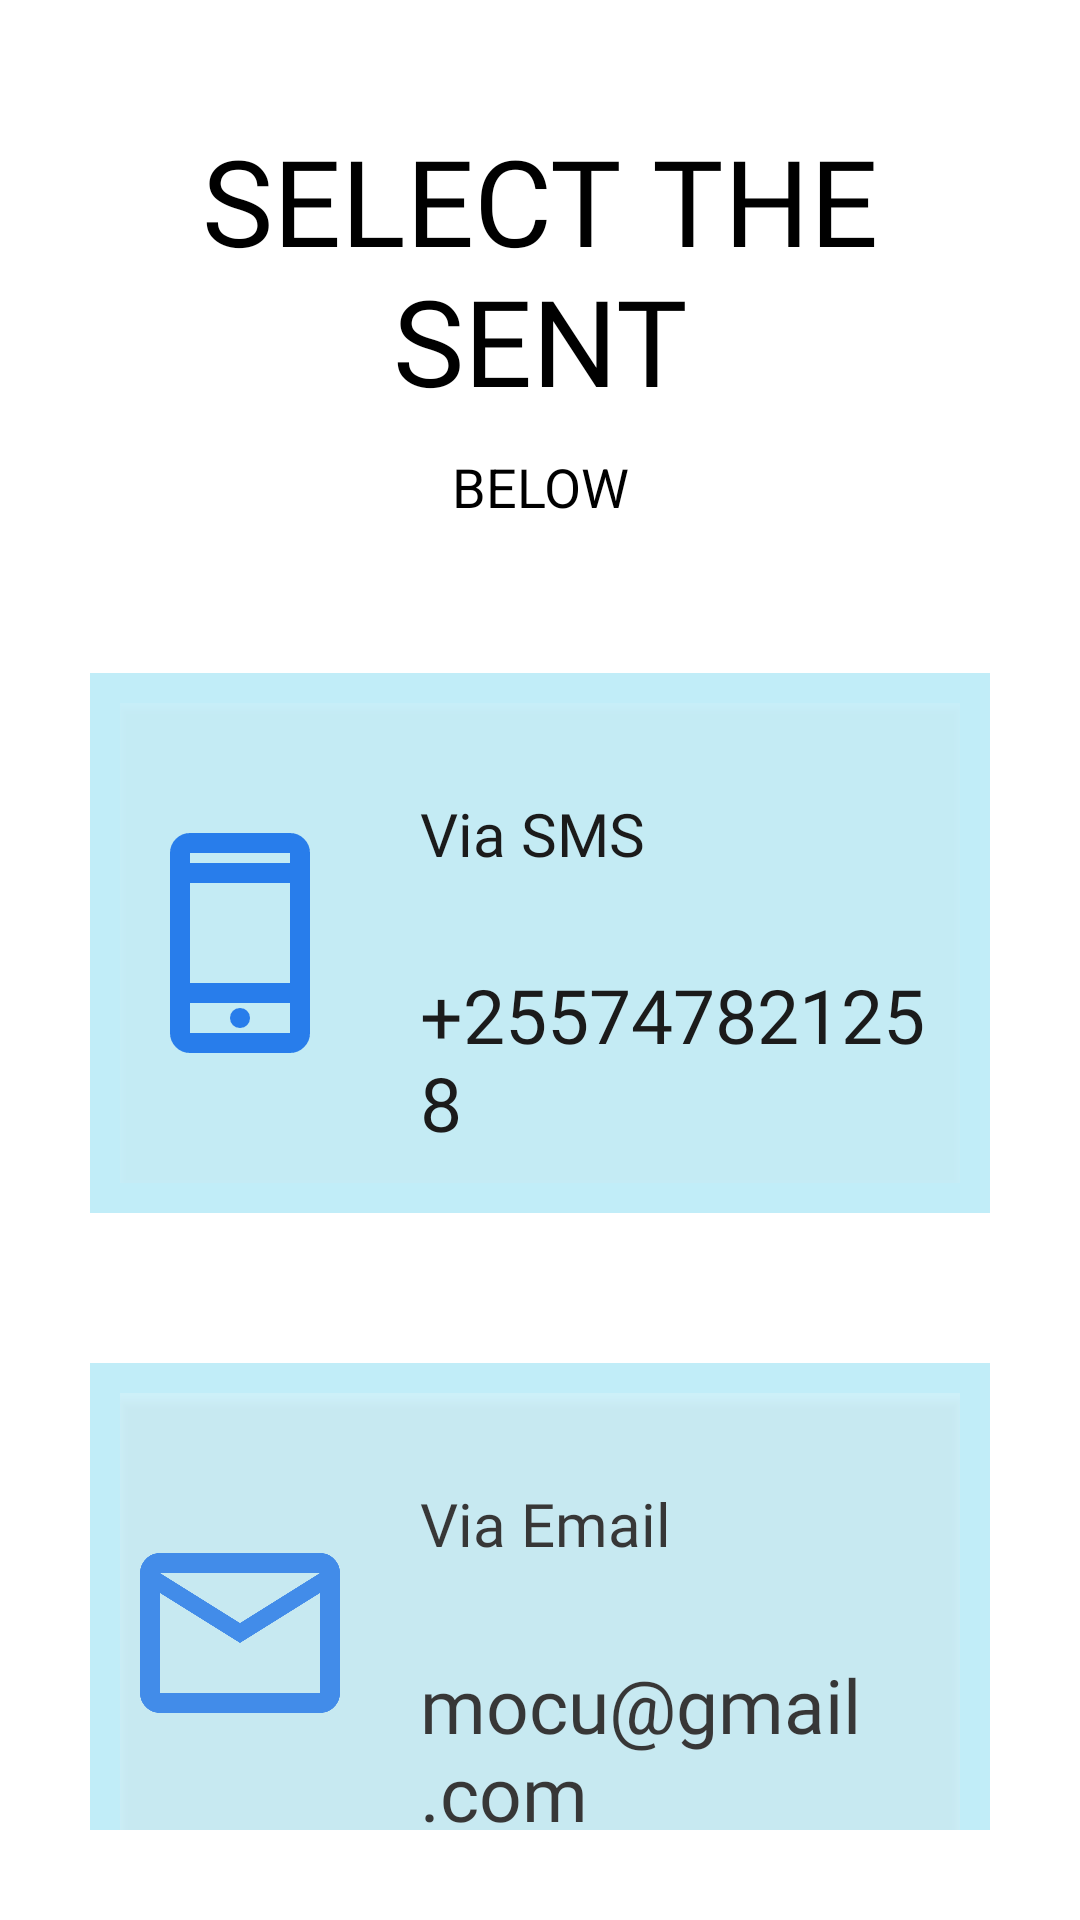

Point at icon controls on the screen. Image size 1080x1920, points as point (x, y).
phone: point (240, 943)
